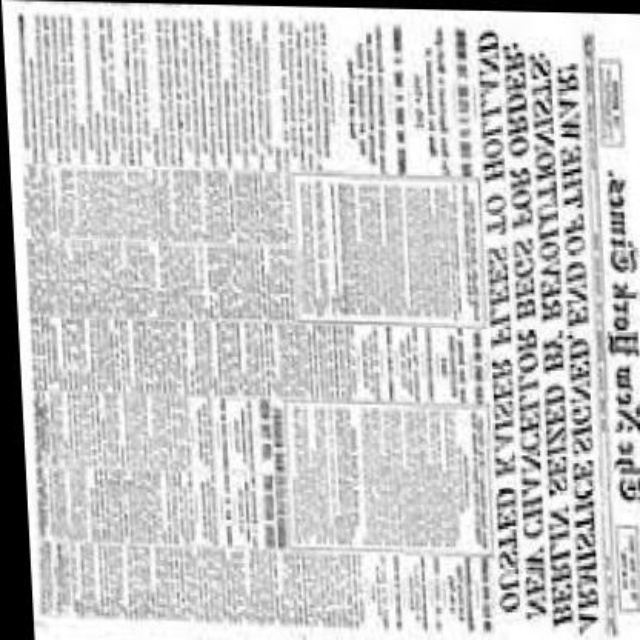trash: (5, 0, 638, 638)
